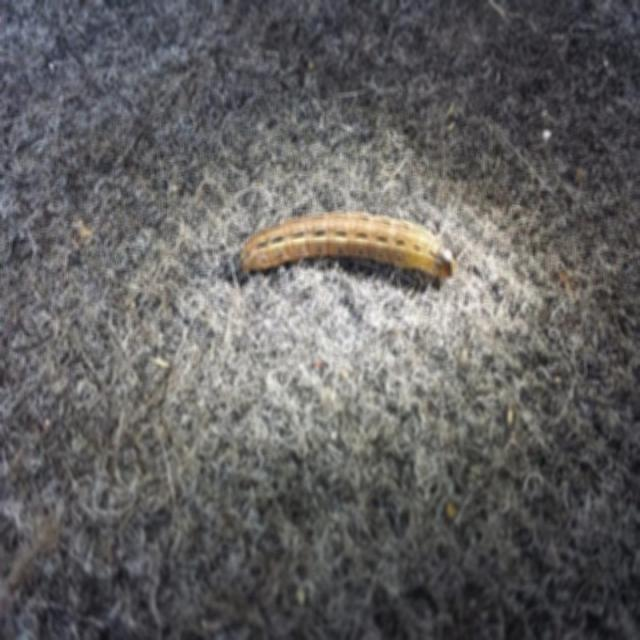army worm: (231, 212, 462, 293)
